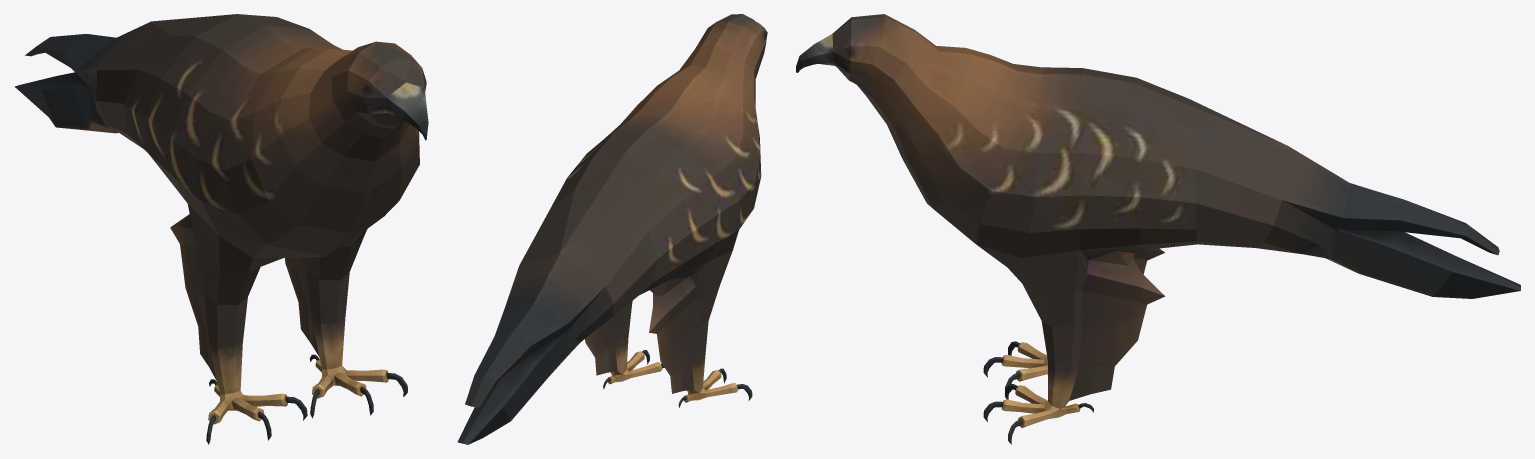
Rendered from animals-golden-eagle-111.glb.
3 renders of one model, left to right at view 1: azimuth 30°, elevation 25°; view 2: azimuth 150°, elevation 25°; view 3: azimuth 270°, elevation 25°, orthographic. The views are drawn at different scales.
Visible parts, largest first — view 1: GoldenEagle_mesh2; view 2: GoldenEagle_mesh2; view 3: GoldenEagle_mesh2.
Part boxes in pixels (x1,y1,x2,y2): GoldenEagle_mesh2: (14,14,428,444); GoldenEagle_mesh2: (457,14,767,444); GoldenEagle_mesh2: (796,14,1520,444).
Bounding box in the file's own units: 5 × 10.25 × 17.47.
1 material, 1 textured.
